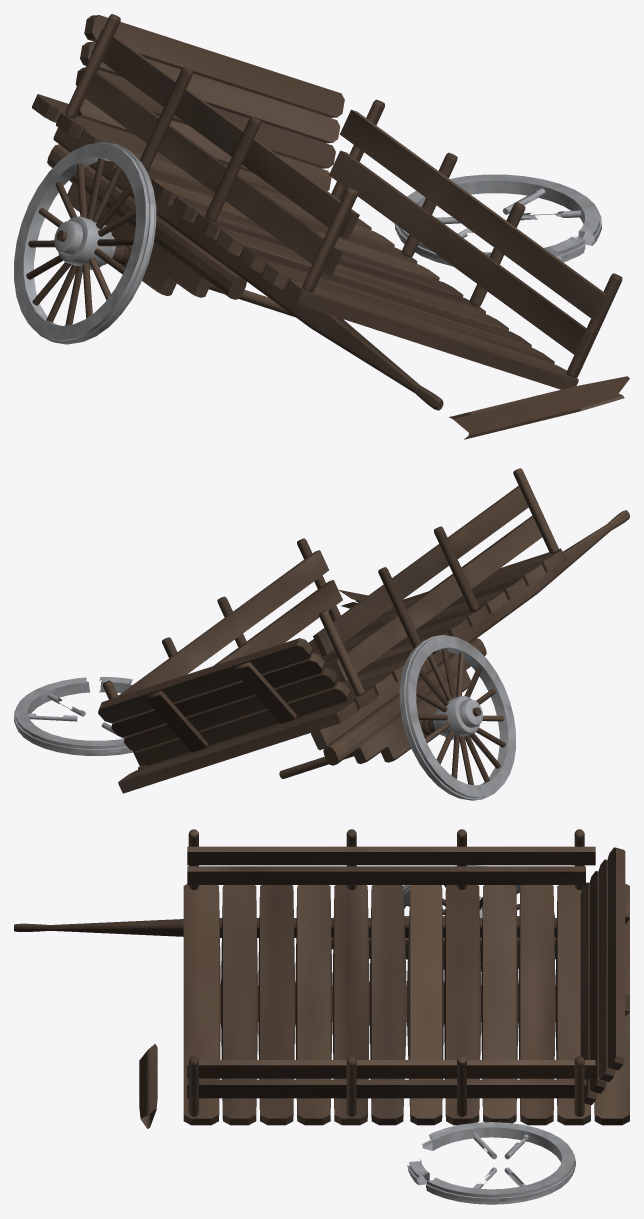
File: Broken surae.fbx
3 views of the same model, one above another, from view 1: azimuth 30°, elevation 25°; view 2: azimuth 150°, elevation 25°; view 3: azimuth 270°, elevation 25° (orthographic). The views are drawn at different scales.
Parts seen in each view (by area): view 1: Wheel; view 2: Wheel; view 3: Wheel.
Boxes of the visible parts, <box> form: Wheel: <box>14,14,629,439</box>; Wheel: <box>14,468,629,800</box>; Wheel: <box>14,829,629,1204</box>.
Bounding box in the file's own units: 359 × 172 × 419.
Materials: 1 (1 with a texture image).
